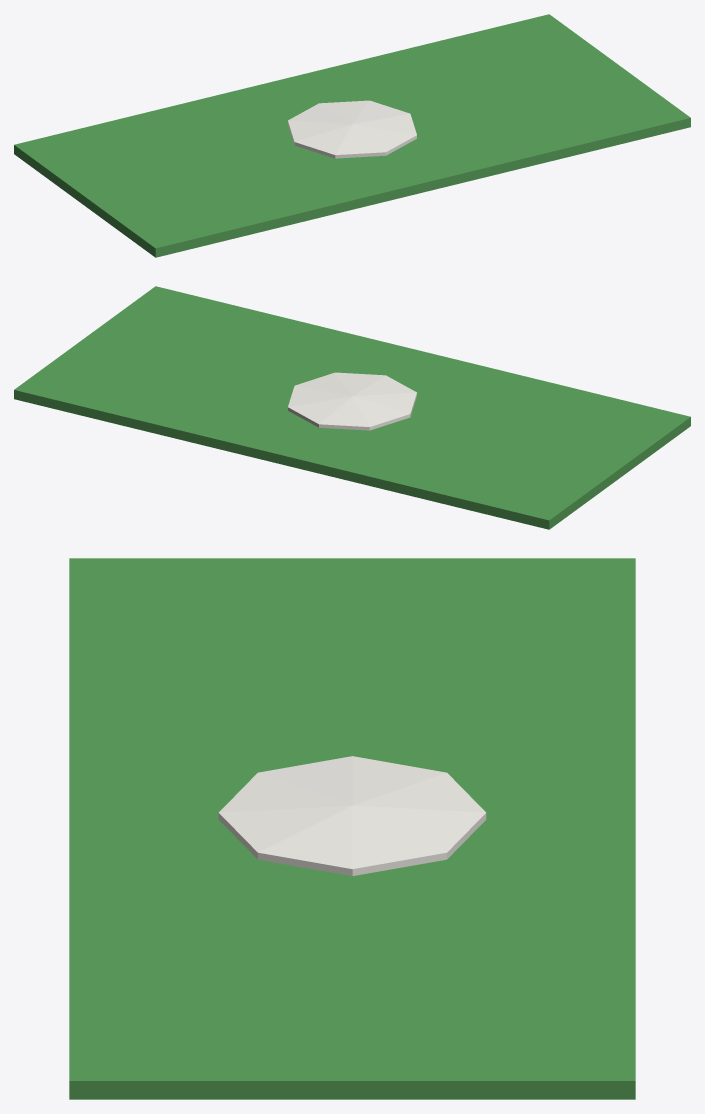
Rendered from toy_bill.glb.
3 views of the same model, one above another, from view 1: azimuth 30°, elevation 25°; view 2: azimuth 150°, elevation 25°; view 3: azimuth 270°, elevation 25° (orthographic). The views are drawn at different scales.
Parts seen in each view (by area): view 1: paper_bill_green, smile_white; view 2: paper_bill_green, smile_white; view 3: paper_bill_green, smile_white.
Boxes of the visible parts, left/top/right/bottom form: paper_bill_green: left=14, top=14, right=690, bottom=257; smile_white: left=288, top=100, right=416, bottom=158; paper_bill_green: left=14, top=286, right=690, bottom=529; smile_white: left=288, top=372, right=416, bottom=430; paper_bill_green: left=69, top=558, right=635, bottom=1099; smile_white: left=218, top=756, right=486, bottom=875.
Size of the model in its own units: 0.24 by 0.007 by 0.11.
